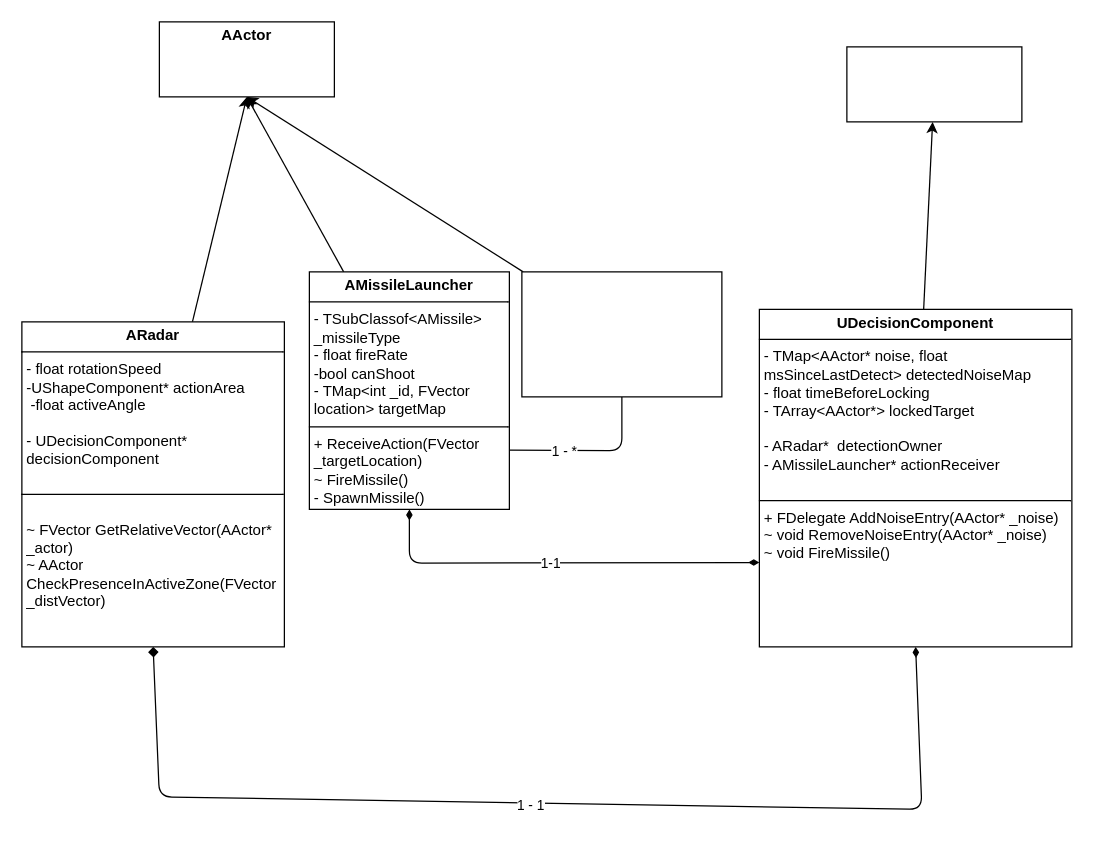
Some shapes in this 1094 by 843 pixel diagram are drawn without their labels. The shapes that lost their labels are listed below. From the top down, each one's centre as x and y in pixels, then its label:
(x=934, y=84): UActorComponent
(x=621, y=334): AMissile - AActor* target ~ GetAngleToAimTarget()
